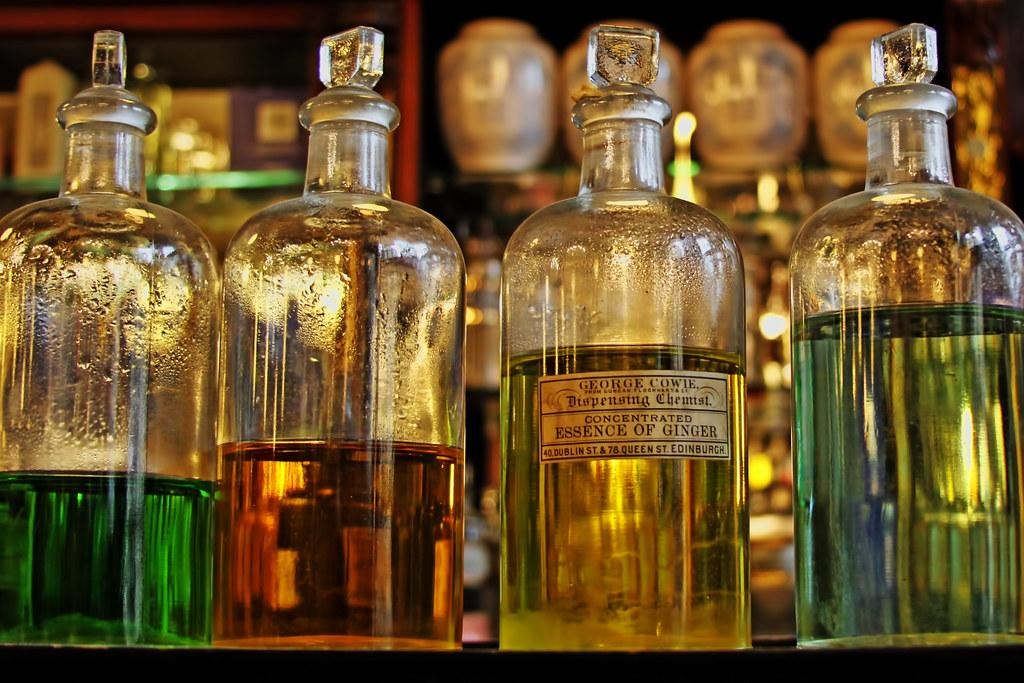bottle: (499, 24, 753, 653), (214, 25, 468, 652), (788, 23, 1024, 650), (1, 29, 222, 649)
